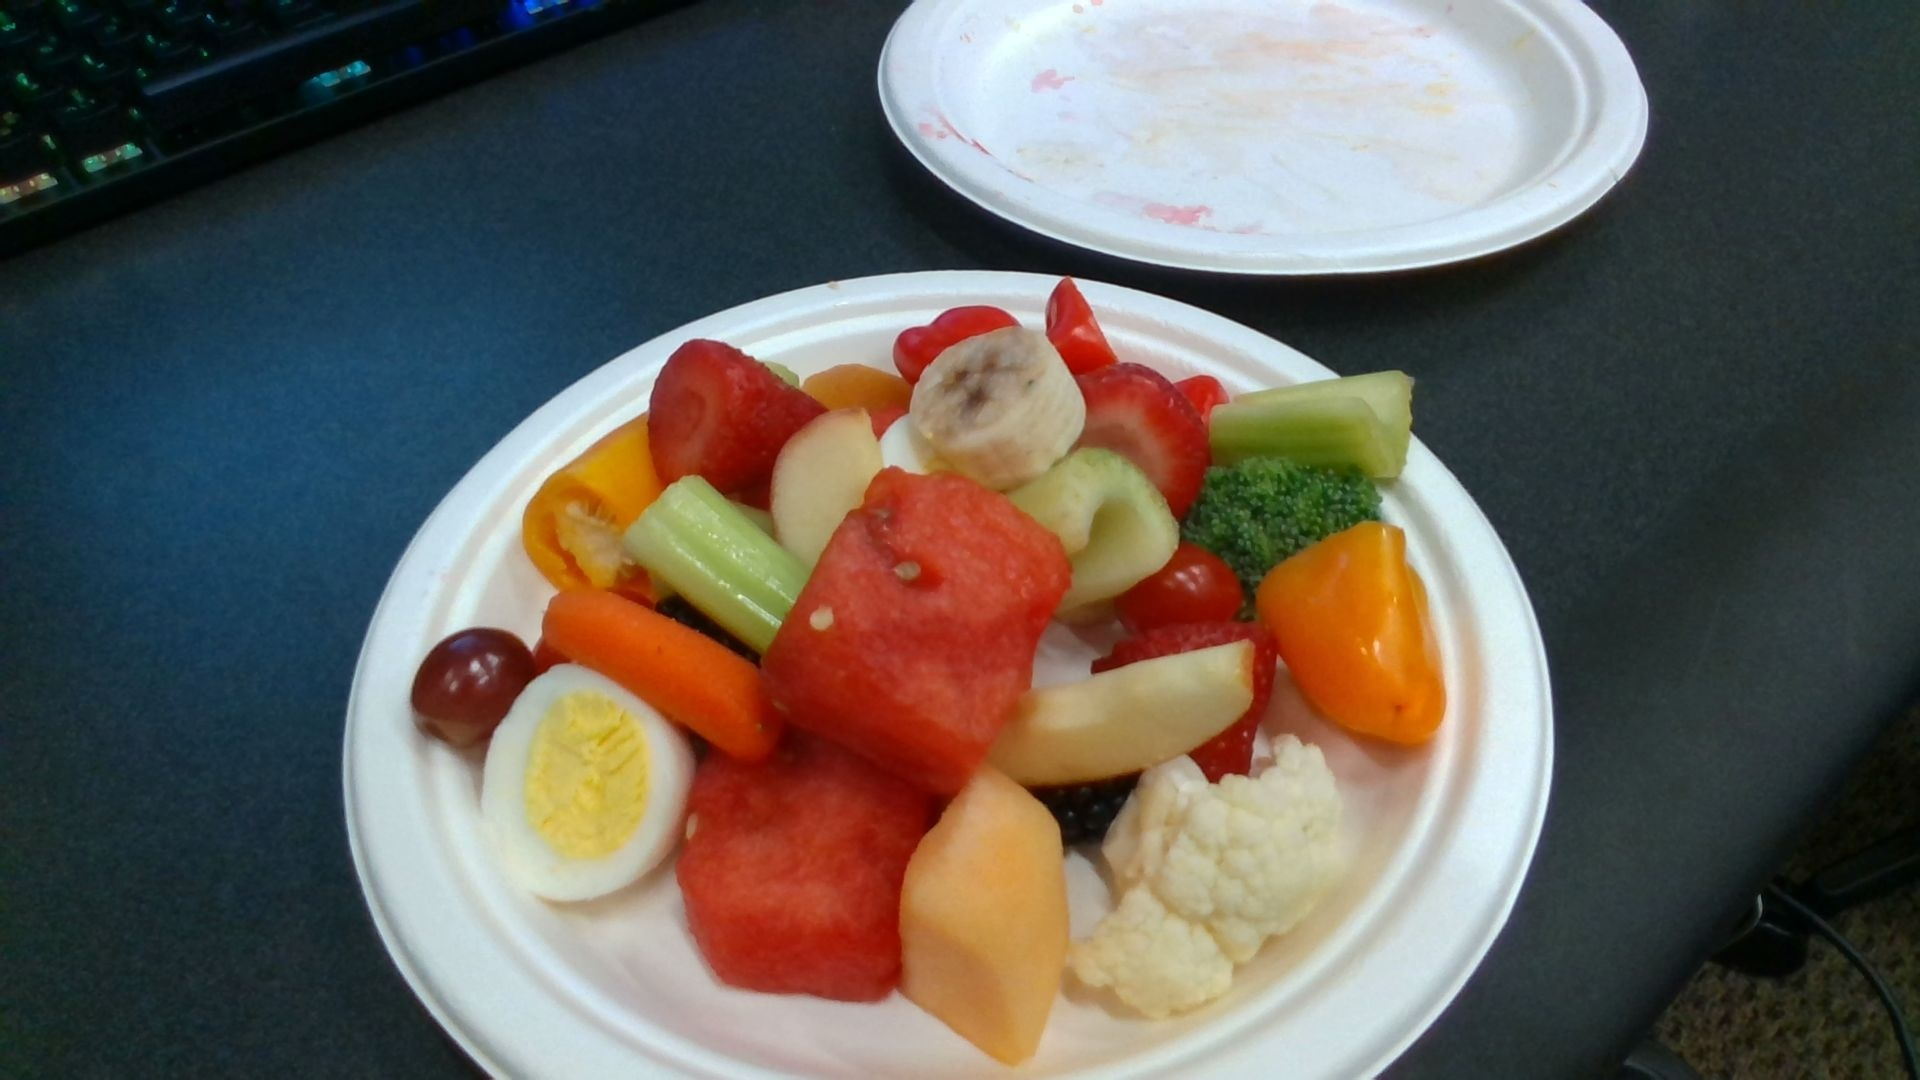apple: (984, 640, 1251, 781), (771, 411, 880, 564)
banana: (907, 330, 1085, 487)
bell_pepper: (1257, 524, 1444, 740), (527, 411, 659, 588)
broccoli: (1182, 460, 1379, 566)
cantalope: (902, 775, 1065, 1063)
carrot: (545, 585, 779, 758)
cauliflower: (1102, 735, 1344, 957)
celery: (624, 477, 807, 647), (1005, 450, 1179, 613), (1211, 371, 1410, 476)
egg: (484, 665, 698, 901)
grape_purple: (414, 630, 534, 742)
melon: (764, 469, 1069, 783), (676, 752, 924, 996)
strawberry: (650, 342, 829, 481), (1073, 365, 1207, 516)
